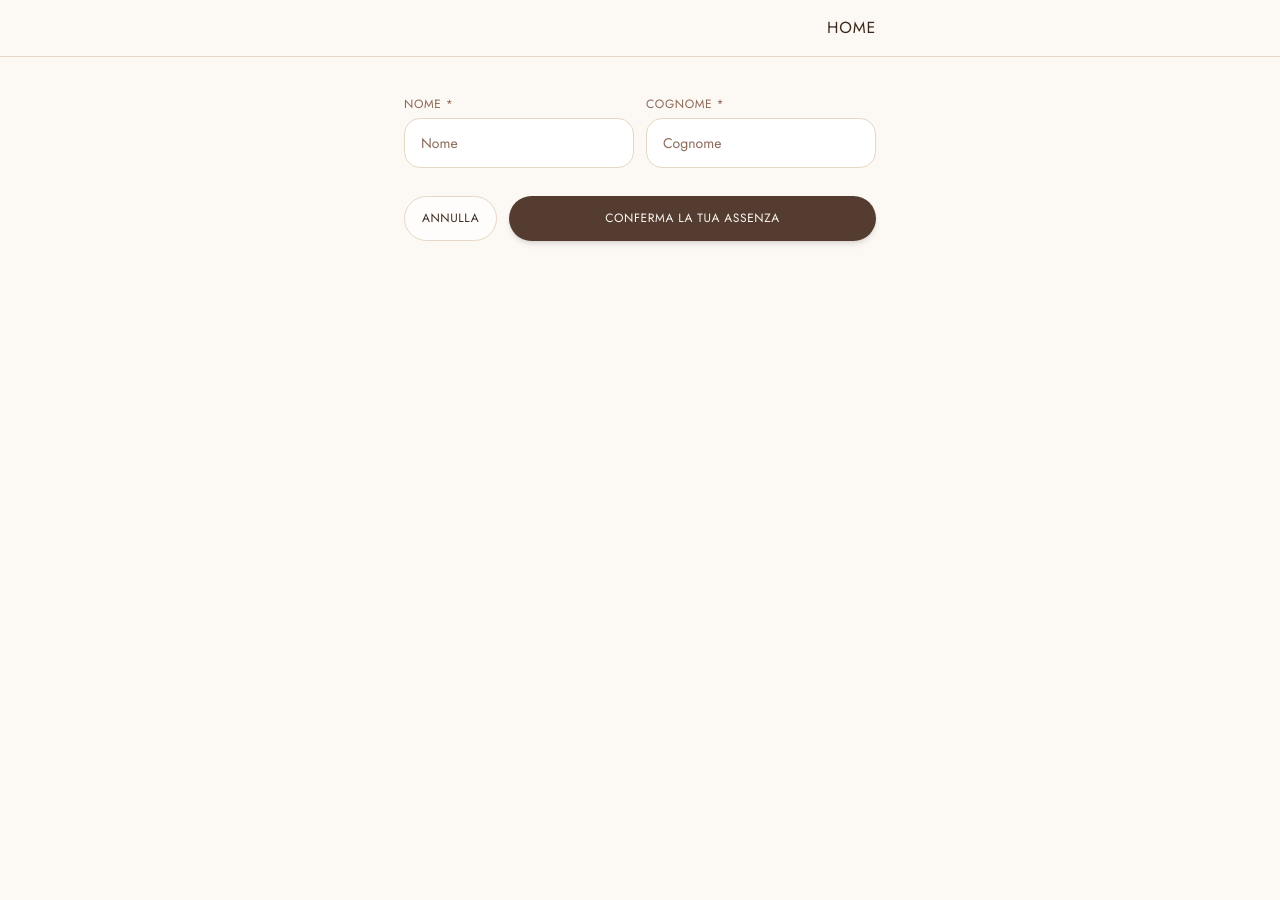
RSVP confirm-only flow and pass gating › returns home when canceling the absence flow
Expected: the button "Conferma la tua assenza" is shown, 509,196 -> 876,241
Click the button with test id "button-cancel-edit". click: point(451, 218)
box: 404,196 -> 497,241
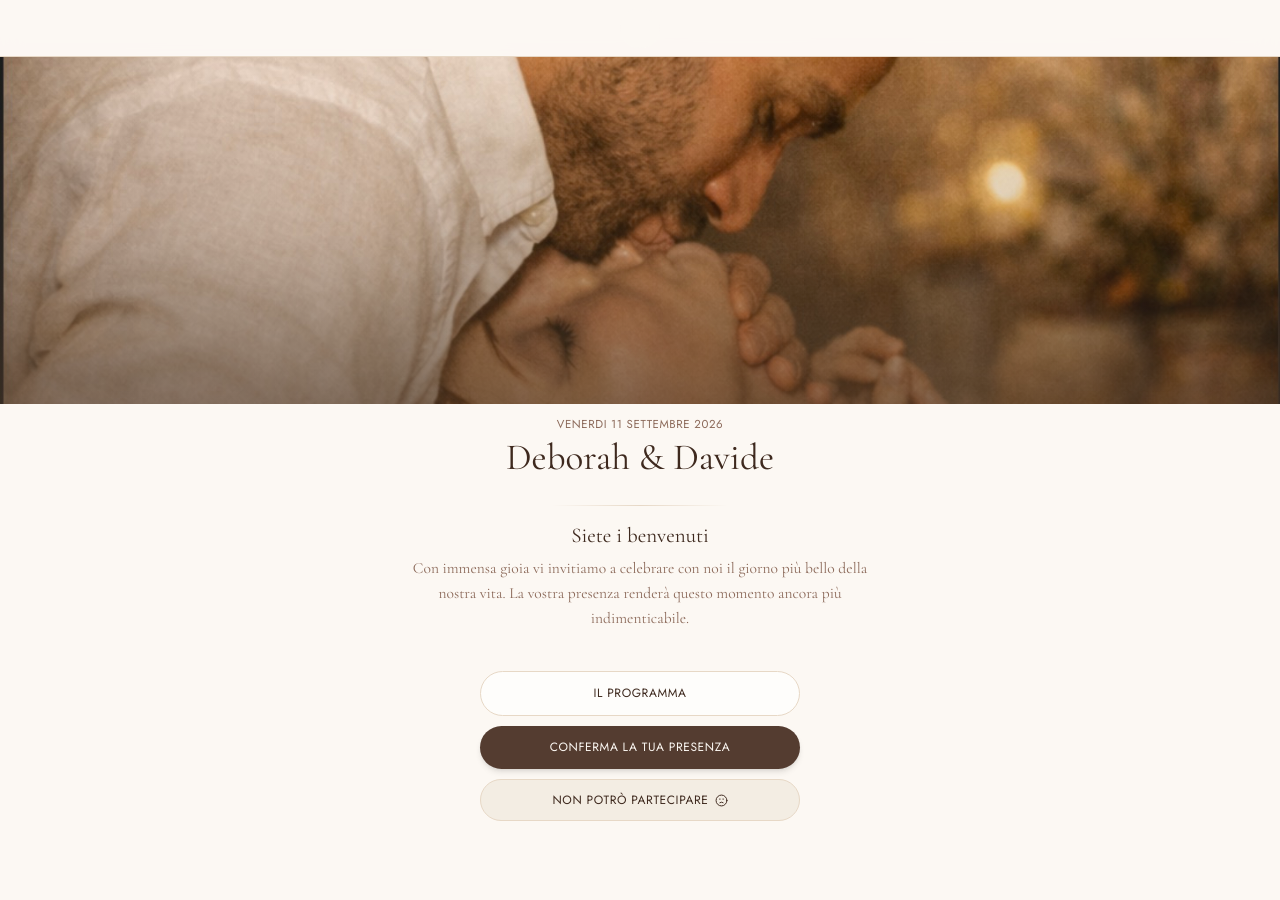
Now the button with test id "button-cta-rsvp" is shown, box 480,726 -> 800,769
